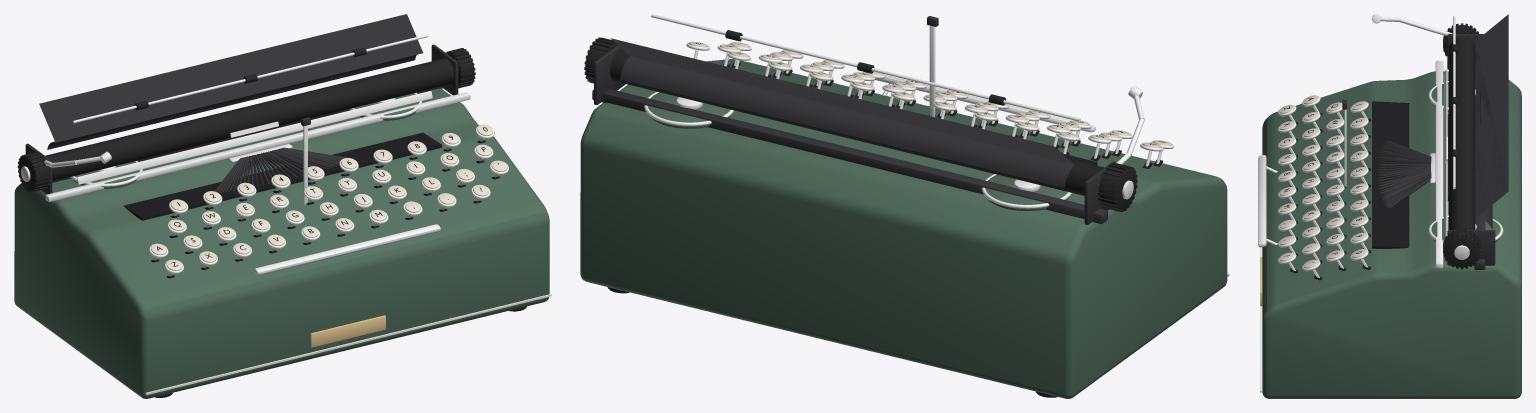
The model's file is typewriter.glb.
3 renders of one model, left to right at view 1: azimuth 30°, elevation 25°; view 2: azimuth 150°, elevation 25°; view 3: azimuth 270°, elevation 25°, orthographic. The views are drawn at different scales.
Visible parts, largest first — view 1: Body_Enamel, Carriage_DarkMetal, Carriage_Rubber, Body_Chrome, Body_KeyFace, Body_Recess, Carriage_Chrome, Body_DarkMetal, Body_Brass; view 2: Body_Enamel, Carriage_DarkMetal, Body_Chrome, Body_DarkMetal, Carriage_Rubber, Body_KeyFace, Carriage_Chrome, Body_Recess, Typebar_Chrome; view 3: Body_Enamel, Body_Chrome, Carriage_DarkMetal, Carriage_Rubber, Body_Recess, Body_KeyFace, Body_DarkMetal, Carriage_Chrome.
Part boxes in pixels (x1,y1,x2,y2): Body_Enamel: (14, 88, 549, 398); Carriage_DarkMetal: (25, 14, 458, 194); Carriage_Rubber: (17, 47, 475, 192); Body_Chrome: (45, 92, 551, 394); Body_KeyFace: (151, 124, 507, 270); Body_Recess: (123, 113, 499, 278); Carriage_Chrome: (21, 34, 432, 184); Body_DarkMetal: (52, 86, 442, 192); Body_Brass: (310, 315, 385, 347); Body_Enamel: (580, 59, 1227, 398); Carriage_DarkMetal: (594, 38, 1116, 224); Body_Chrome: (644, 43, 1229, 276); Body_DarkMetal: (592, 89, 1107, 223); Carriage_Rubber: (584, 30, 1137, 211); Body_KeyFace: (688, 41, 1172, 151); Carriage_Chrome: (651, 14, 1144, 199); Body_Recess: (696, 43, 1165, 168); Typebar_Chrome: (929, 25, 935, 117); Body_Enamel: (1262, 71, 1521, 398); Body_Chrome: (1258, 60, 1503, 392); Carriage_DarkMetal: (1447, 14, 1508, 265); Carriage_Rubber: (1443, 23, 1480, 269); Body_Recess: (1283, 98, 1448, 280); Body_KeyFace: (1279, 95, 1366, 268); Body_DarkMetal: (1377, 63, 1485, 269); Carriage_Chrome: (1372, 14, 1469, 259).
Size of the model in its own units: 6.52 by 2.95 by 3.39.
